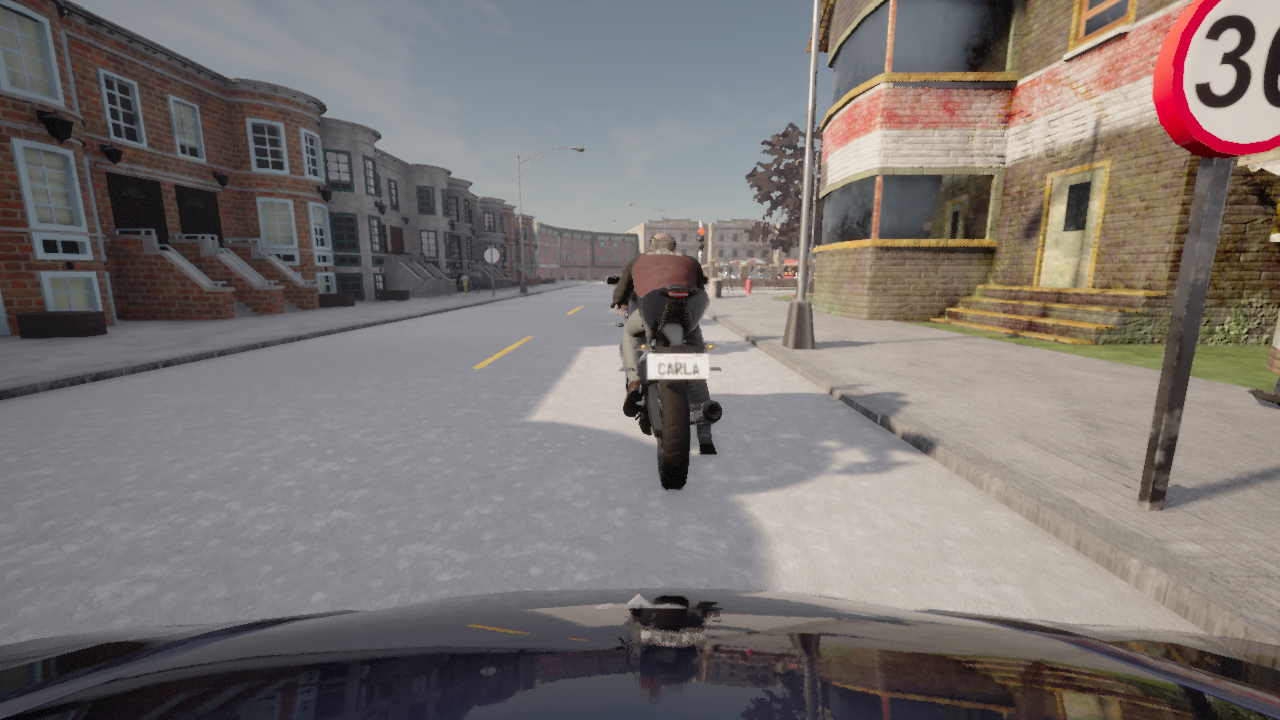cyclist: (0, 588, 1279, 719), (605, 274, 722, 488)
pedestrian: (1248, 377, 1279, 406), (470, 259, 483, 295), (723, 258, 733, 295), (459, 272, 470, 297)
